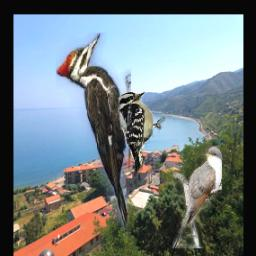Cuckoo: (173, 147, 223, 249)
Woodpecker: (56, 34, 131, 238), (117, 90, 165, 175)
